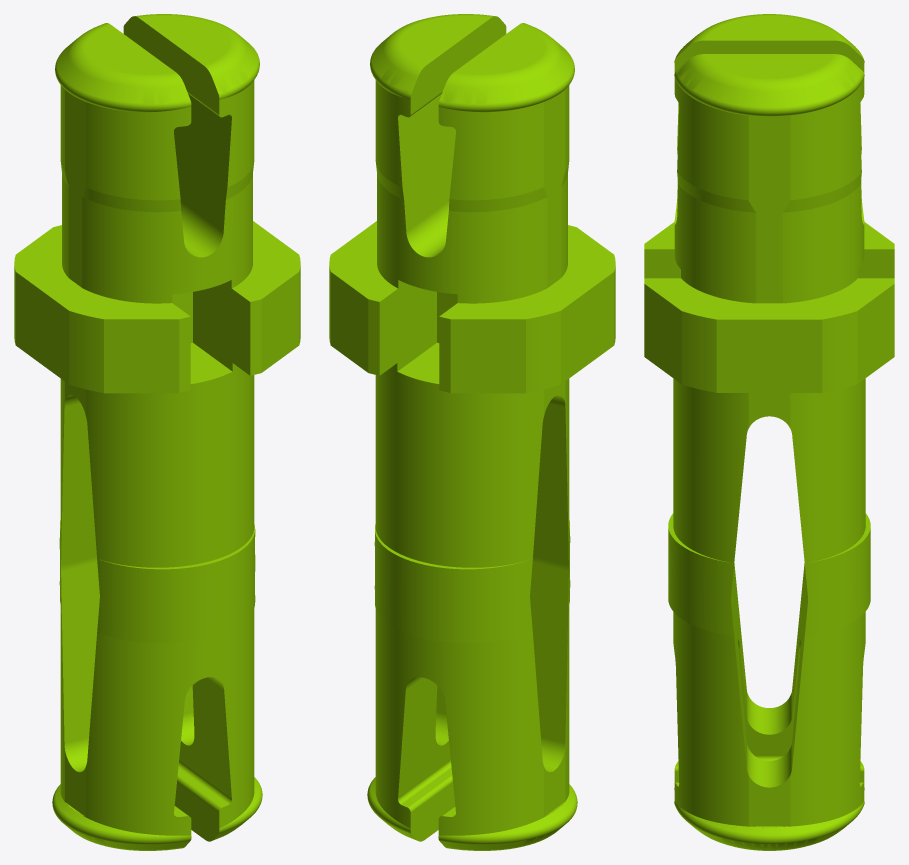
3 renders of one model, left to right at view 1: azimuth 30°, elevation 25°; view 2: azimuth 150°, elevation 25°; view 3: azimuth 270°, elevation 25°, orthographic.
Parts seen in each view (by area): view 1: 228-2500-2261; view 2: 228-2500-2261; view 3: 228-2500-2261.
Part boxes in pixels (x1,y1,x2,y2): 228-2500-2261: (14, 14, 300, 850); 228-2500-2261: (329, 14, 615, 850); 228-2500-2261: (644, 14, 894, 850).
Bounding box in the file's own units: 0.0058 × 0.0186 × 0.0055.
